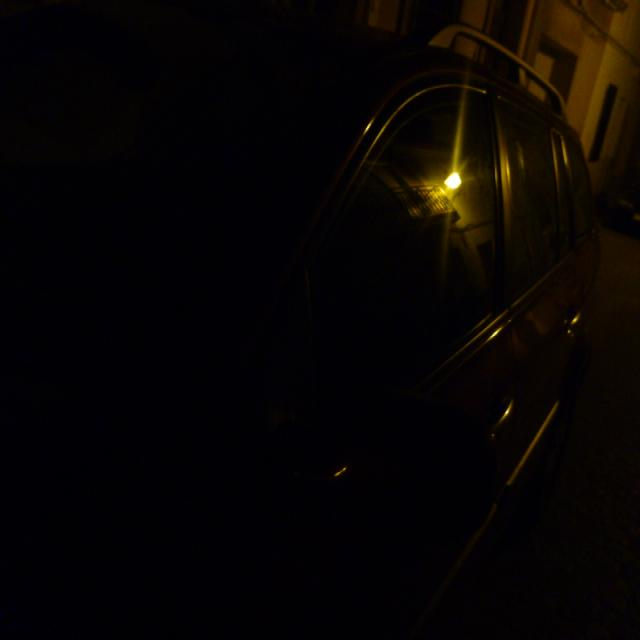Car: (141, 21, 640, 607)
